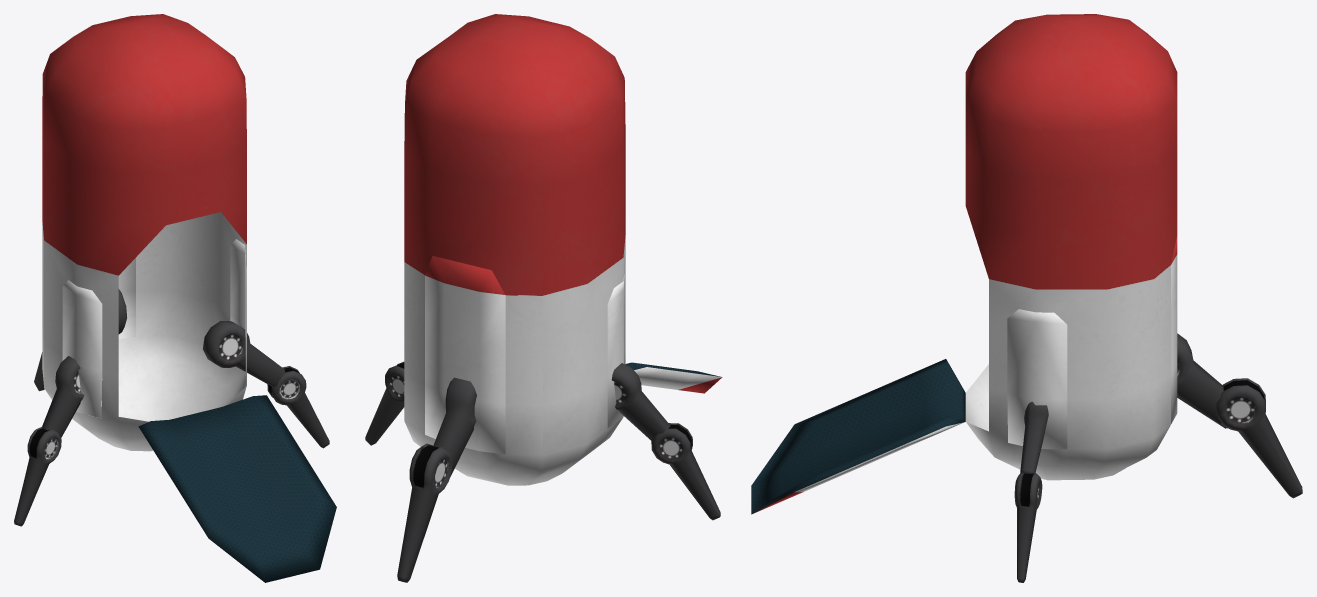
Rendered from Capsula.FBX.
3 views of the same model, side by side, from view 1: azimuth 30°, elevation 25°; view 2: azimuth 150°, elevation 25°; view 3: azimuth 270°, elevation 25° (orthographic). The views are drawn at different scales.
Parts seen in each view (by area): view 1: CAPSULA_LOW, Puerta_frontal, Patas, Puerta_Izquierda, Puerta__Derecha, Puerta_trasera; view 2: CAPSULA_LOW, Puerta_trasera, Patas, Puerta_Izquierda, Puerta_frontal; view 3: CAPSULA_LOW, Puerta_frontal, Patas, Puerta__Derecha, Puerta_trasera.
Boxes of the visible parts, <box> form: CAPSULA_LOW: <box>42,14,246,451</box>; Puerta_frontal: <box>138,395,336,582</box>; Patas: <box>14,289,329,526</box>; Puerta_Izquierda: <box>62,280,102,418</box>; Puerta__Derecha: <box>230,239,246,382</box>; Puerta_trasera: <box>118,258,135,338</box>; CAPSULA_LOW: <box>404,14,625,485</box>; Puerta_trasera: <box>425,256,505,454</box>; Patas: <box>365,361,720,582</box>; Puerta_Izquierda: <box>607,274,624,428</box>; Puerta_frontal: <box>625,362,722,393</box>; CAPSULA_LOW: <box>965,14,1177,480</box>; Puerta_frontal: <box>751,359,965,514</box>; Patas: <box>1014,333,1302,582</box>; Puerta__Derecha: <box>1007,309,1067,449</box>; Puerta_trasera: <box>1171,236,1177,423</box>.
Size of the model in its own units: 5052 by 6648 by 6945.
Materials: 2 (2 with a texture image).
